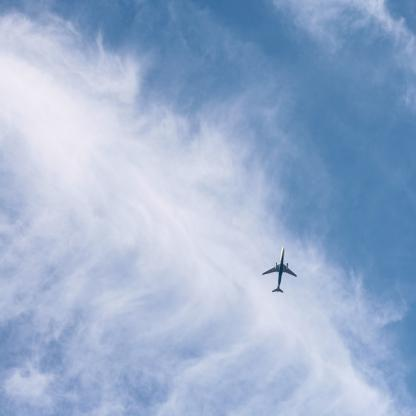CIV_Plane: (255, 242, 298, 304)
